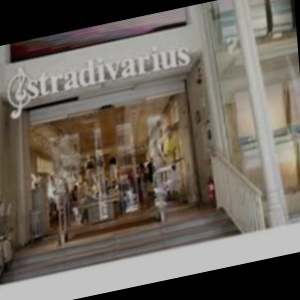stradivarius: (180, 15, 205, 44)
